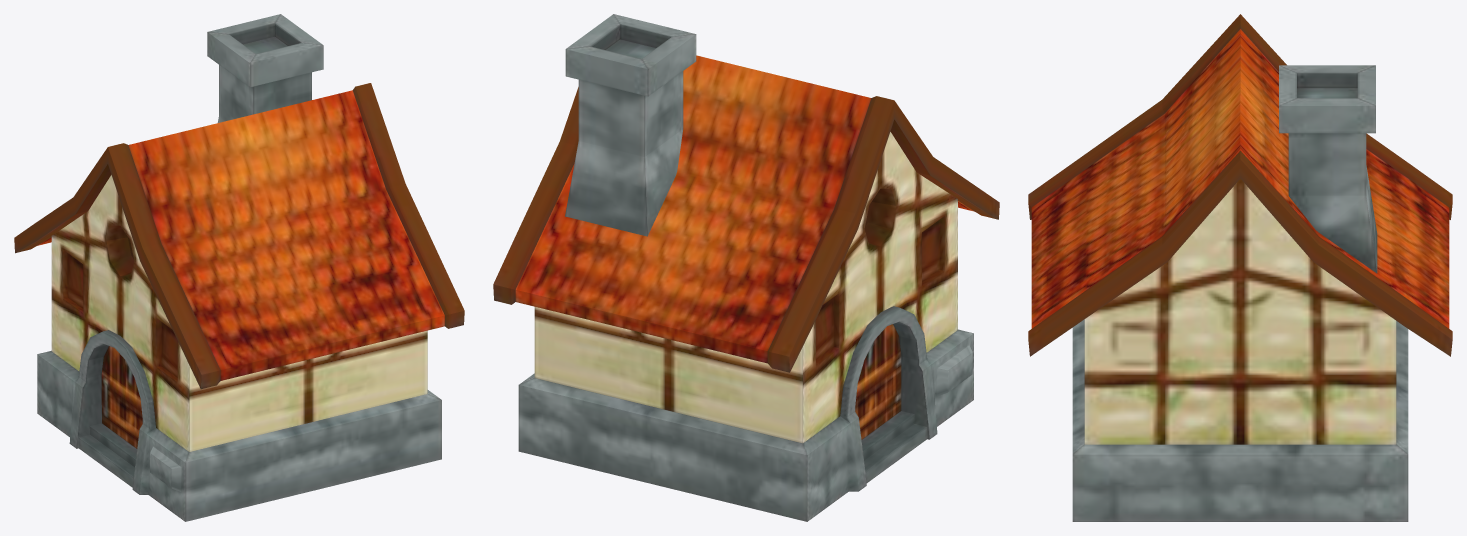
The model's file is free_medieval_blacksmith.glb.
3 renders of one model, left to right at view 1: azimuth 30°, elevation 25°; view 2: azimuth 150°, elevation 25°; view 3: azimuth 270°, elevation 25°, orthographic. The views are drawn at different scales.
Visible parts, largest first — view 1: free_medieval_blacksmith; view 2: free_medieval_blacksmith; view 3: free_medieval_blacksmith.
Boxes of the visible parts, box(x1,y1,x2,y2) form: free_medieval_blacksmith: box(14, 14, 464, 521); free_medieval_blacksmith: box(493, 14, 999, 521); free_medieval_blacksmith: box(1028, 14, 1452, 521).
Size of the model in its own units: 2.46 by 3.13 by 3.
Materials: 1 (1 with a texture image).
